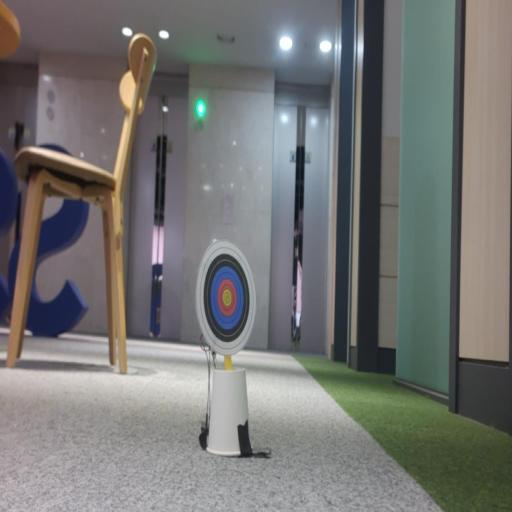target: (196, 240, 255, 356)
